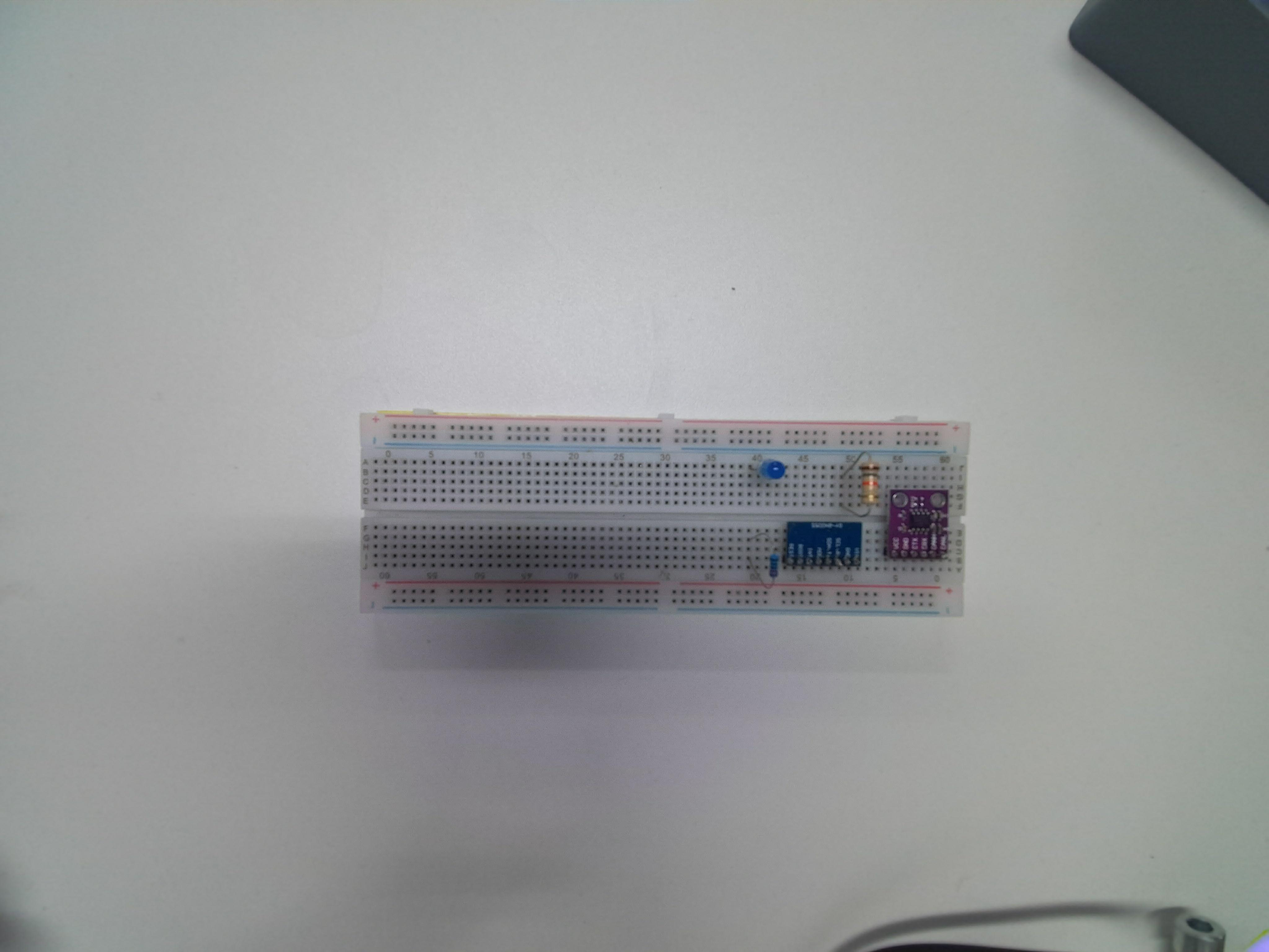base: (353, 414, 972, 620)
blue-board: (781, 519, 863, 571)
blue-led: (759, 459, 787, 481)
purple-board: (883, 487, 951, 562)
resistor-big: (858, 460, 882, 506)
resistor-small: (769, 554, 780, 579)
